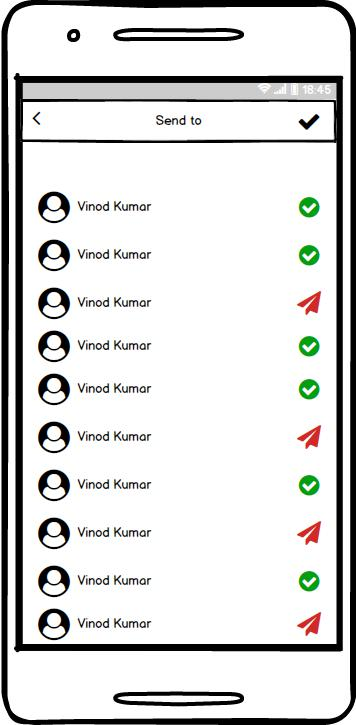Icon: (38, 330, 71, 363), (38, 192, 71, 224), (38, 240, 71, 272), (38, 288, 71, 320), (39, 373, 71, 406), (38, 470, 71, 502), (39, 609, 72, 641), (39, 518, 71, 550), (39, 565, 71, 597), (38, 422, 71, 453), (296, 520, 322, 545), (296, 291, 321, 316), (297, 612, 321, 638), (296, 425, 321, 449), (298, 336, 320, 358), (299, 197, 320, 219), (298, 475, 320, 496), (299, 245, 320, 266), (299, 571, 320, 592), (299, 380, 320, 399), (298, 115, 320, 132), (33, 112, 42, 126)
Text: (77, 574, 153, 586), (77, 430, 152, 442), (77, 201, 153, 212), (77, 249, 153, 260), (77, 479, 153, 490), (77, 340, 152, 351), (77, 383, 152, 394), (78, 297, 152, 308), (78, 526, 152, 537), (77, 618, 153, 628), (156, 115, 202, 126)
